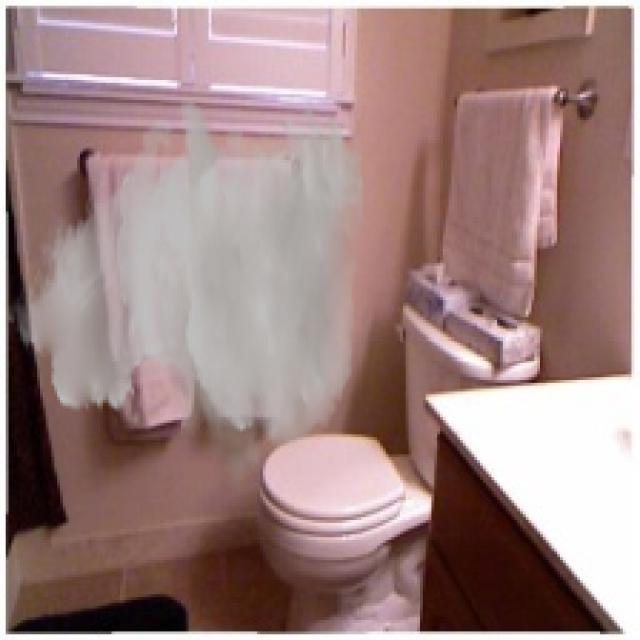Smoke: (6, 97, 366, 497)
